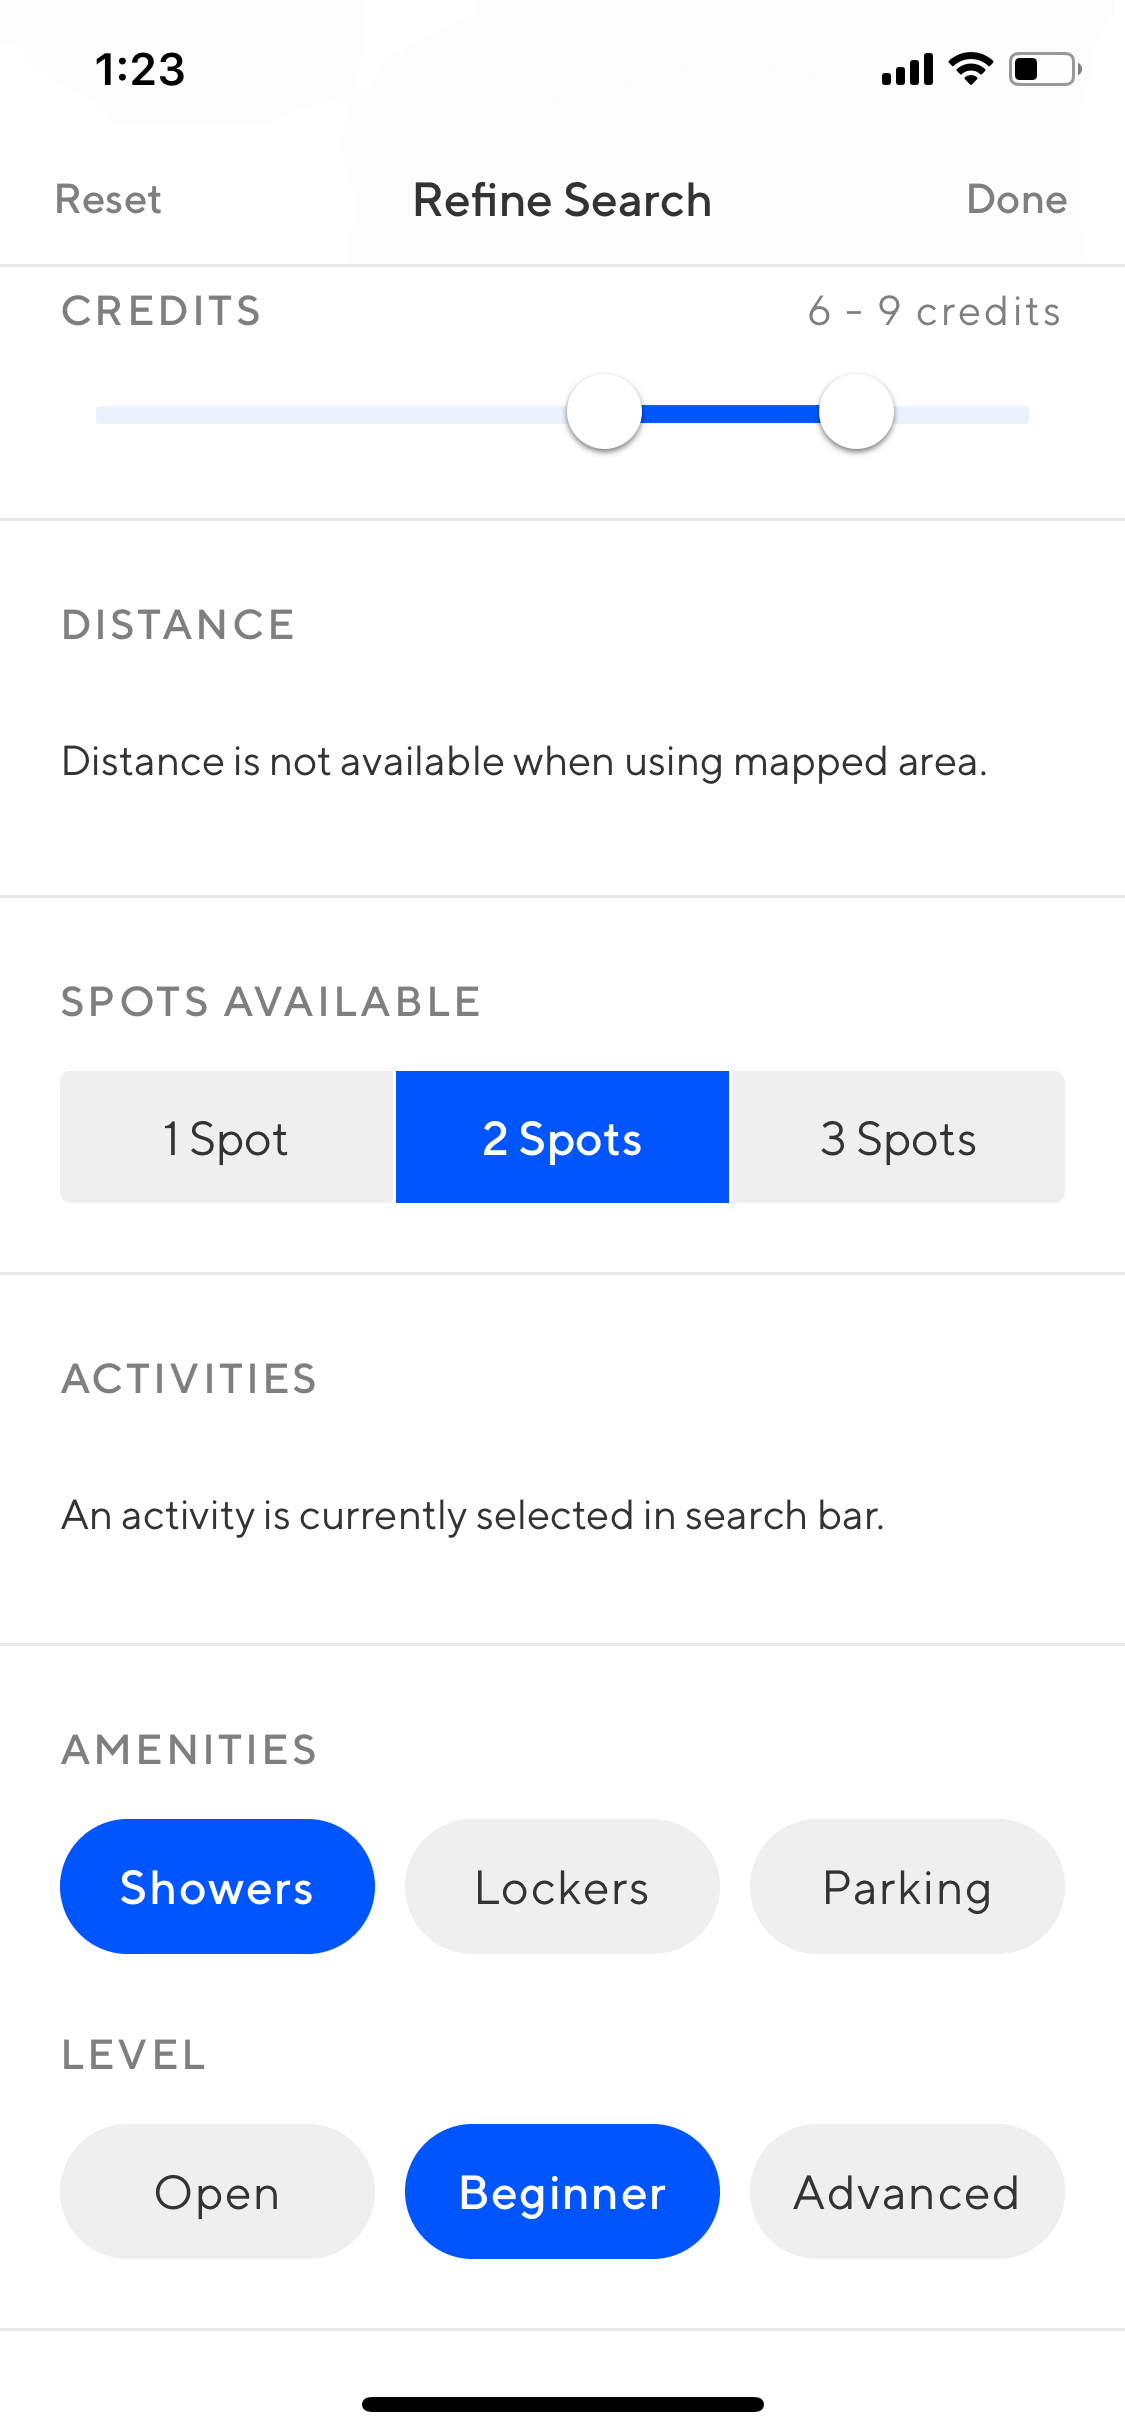Buttons: (9, 141, 210, 252), (921, 141, 1102, 249)
Sliders: (57, 360, 1050, 466)
